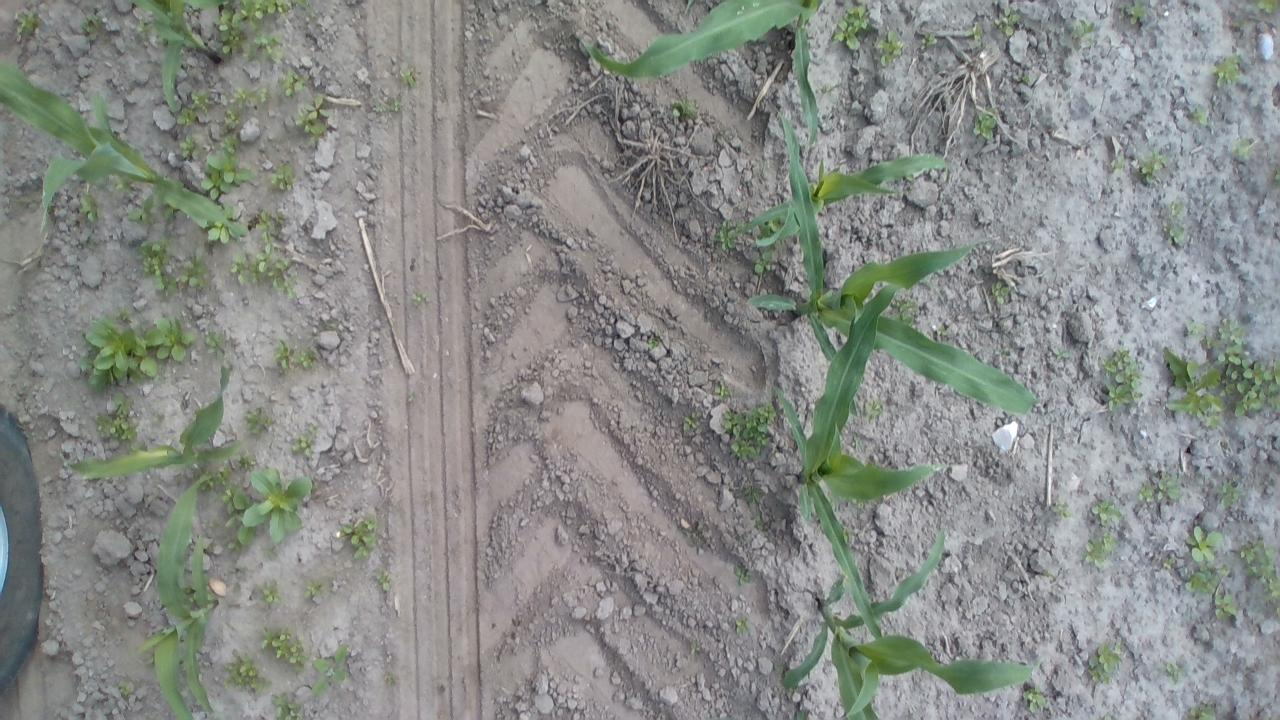Maize: (750, 113, 1036, 416), (767, 283, 945, 640), (780, 530, 1048, 720), (0, 59, 244, 243), (580, 0, 822, 153), (59, 330, 245, 481), (136, 472, 222, 720), (735, 151, 948, 248), (134, 0, 230, 113)
Weeds: (82, 314, 196, 390), (215, 1, 310, 64), (237, 469, 311, 544), (1160, 346, 1222, 428), (1217, 344, 1280, 418), (230, 233, 298, 300), (719, 401, 777, 462), (1240, 534, 1280, 612), (1184, 563, 1236, 618), (1101, 347, 1143, 412), (200, 150, 252, 202), (137, 234, 178, 296), (309, 642, 348, 702), (259, 626, 308, 671), (94, 396, 138, 444), (832, 3, 872, 54), (222, 653, 270, 694), (292, 93, 328, 146), (339, 514, 378, 562), (1085, 639, 1124, 682), (1080, 528, 1118, 568), (1184, 524, 1222, 562), (1139, 472, 1184, 503), (221, 482, 252, 525), (876, 27, 907, 70), (1210, 53, 1244, 91), (1138, 147, 1170, 185), (290, 420, 320, 459), (971, 104, 1002, 140), (180, 250, 208, 288), (244, 406, 274, 440), (126, 194, 156, 227), (713, 218, 743, 251), (1068, 18, 1098, 50), (270, 691, 303, 720), (272, 338, 297, 374), (78, 8, 106, 40), (1090, 497, 1124, 523), (12, 6, 39, 38), (993, 7, 1022, 36), (232, 86, 270, 108), (682, 520, 708, 552), (893, 298, 921, 326), (268, 162, 296, 190), (1216, 482, 1242, 512), (669, 96, 700, 121), (78, 192, 104, 221), (258, 579, 284, 606), (862, 397, 886, 426), (204, 326, 227, 356), (1160, 220, 1186, 246), (1119, 1, 1146, 26), (280, 70, 304, 98), (1022, 684, 1046, 712), (175, 134, 198, 161), (742, 483, 768, 506), (303, 578, 330, 600), (256, 212, 285, 232), (1217, 319, 1242, 342), (734, 562, 756, 587), (374, 97, 406, 114), (1051, 499, 1072, 524), (216, 136, 243, 155), (1188, 703, 1218, 720), (374, 566, 392, 594), (190, 87, 210, 112), (207, 221, 228, 244), (682, 410, 702, 434), (175, 106, 197, 127), (1231, 139, 1252, 161), (236, 450, 258, 470), (991, 281, 1010, 304), (1164, 663, 1188, 681), (298, 348, 318, 369), (223, 106, 242, 127), (398, 66, 416, 88), (1168, 196, 1186, 218), (1250, 0, 1278, 14), (1184, 320, 1208, 336), (754, 252, 772, 273), (1051, 347, 1073, 363), (134, 17, 150, 39), (994, 347, 1018, 361), (966, 22, 982, 43), (1192, 104, 1208, 124), (1112, 155, 1128, 175), (734, 615, 749, 636), (409, 290, 426, 308), (114, 176, 133, 192), (760, 222, 779, 238), (258, 546, 279, 560), (114, 305, 132, 321), (116, 681, 134, 697), (714, 381, 730, 399), (646, 332, 662, 350), (752, 516, 769, 532), (920, 33, 936, 50), (150, 409, 167, 423), (841, 526, 854, 543), (846, 498, 870, 507), (1205, 333, 1218, 349), (1230, 19, 1246, 32), (228, 538, 242, 552), (216, 463, 229, 478), (200, 478, 216, 489), (851, 436, 862, 452), (1162, 558, 1176, 570), (202, 518, 216, 530), (320, 318, 334, 330), (1272, 170, 1280, 190), (690, 642, 701, 656), (480, 386, 491, 400), (1041, 571, 1056, 580), (936, 326, 949, 336), (408, 392, 418, 405), (386, 674, 398, 684), (1020, 74, 1031, 82)
